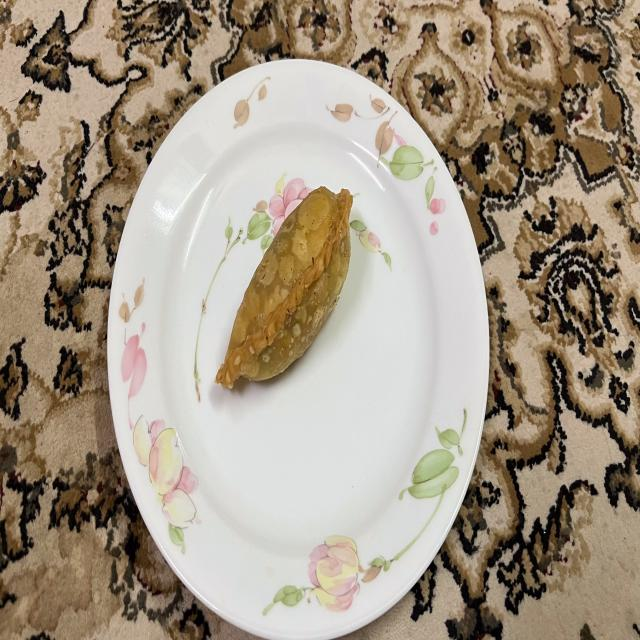karipap: (216, 187, 352, 389)
